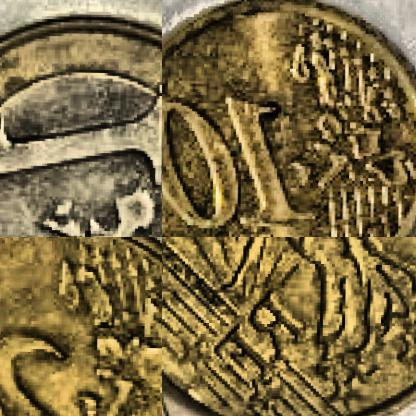coin: (162, 0, 415, 236), (162, 237, 415, 415), (0, 8, 161, 236), (0, 237, 161, 415)
